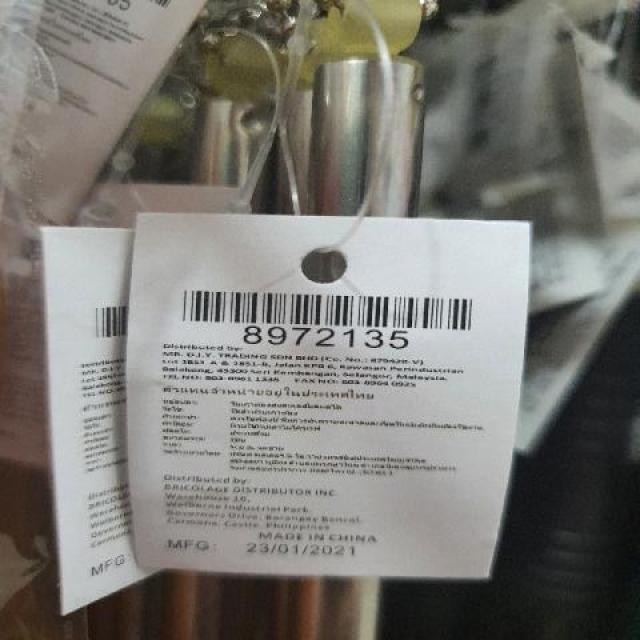Barcode: (161, 286, 495, 350)
